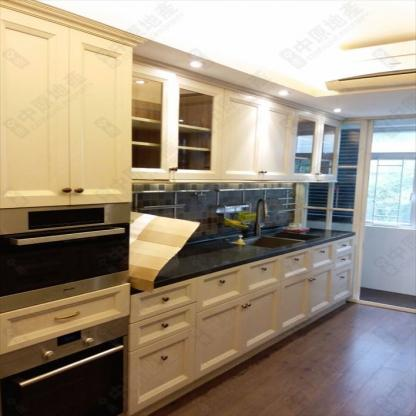Cupboard: (3, 8, 349, 208), (128, 235, 356, 412)
Faucet: (254, 197, 267, 235)
Oven: (1, 202, 130, 312), (1, 317, 126, 414)
Sink: (233, 235, 306, 249)
